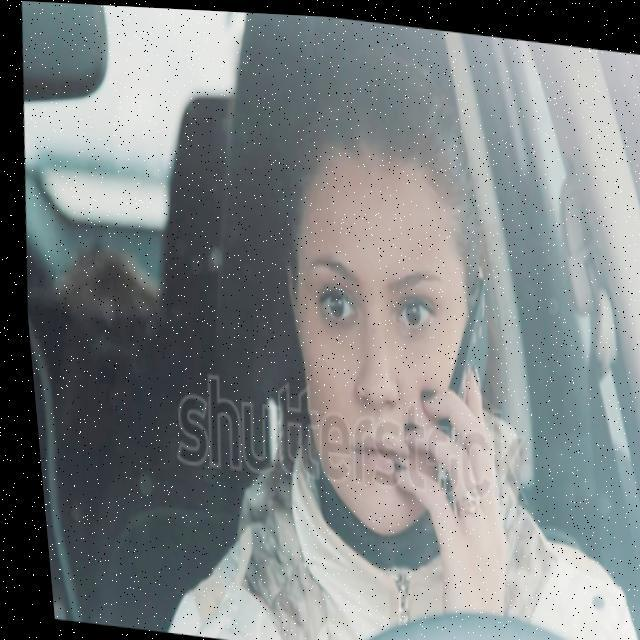PhoneCall: (414, 264, 499, 510)
